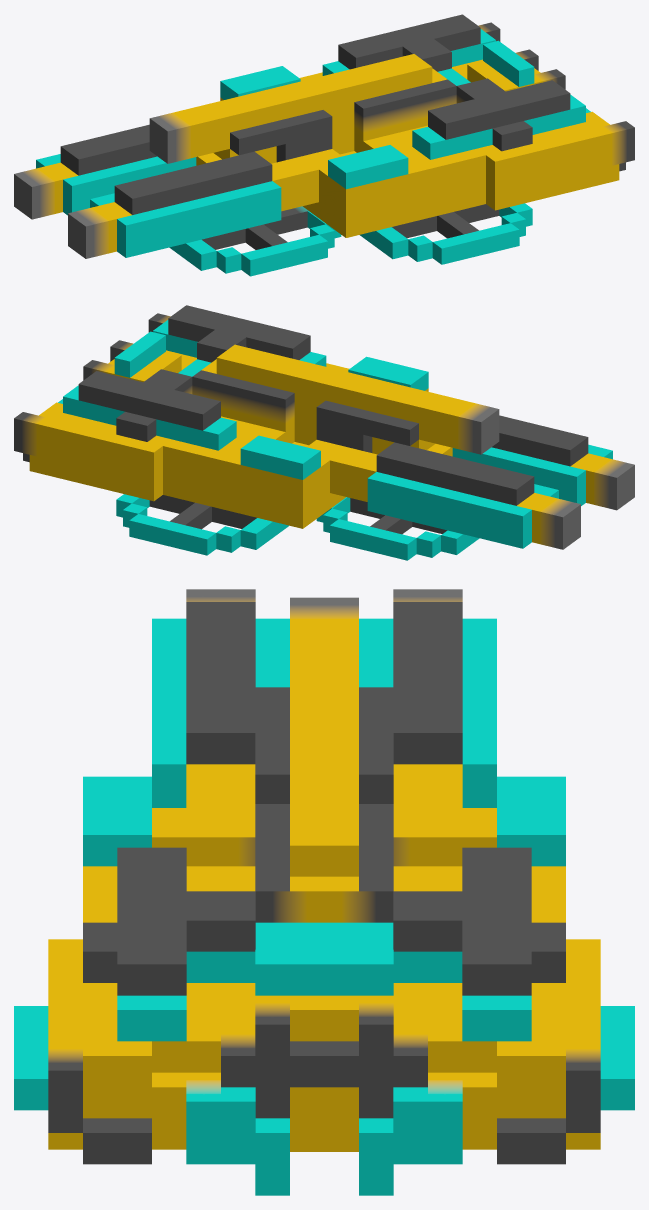
Rendered from Player_14.fbx.
3 renders of one model, top to bottom at view 1: azimuth 30°, elevation 25°; view 2: azimuth 150°, elevation 25°; view 3: azimuth 270°, elevation 25°, orthographic. The views are drawn at different scales.
Visible parts, largest first — view 1: Player_14; view 2: Player_14; view 3: Player_14.
Boxes of the visible parts, x1,y1,x2,y2 form: Player_14: [14, 14, 634, 276]; Player_14: [14, 305, 634, 560]; Player_14: [14, 589, 634, 1195].
Size of the model in its own units: 33 by 8 by 18.
1 material, 1 textured.
